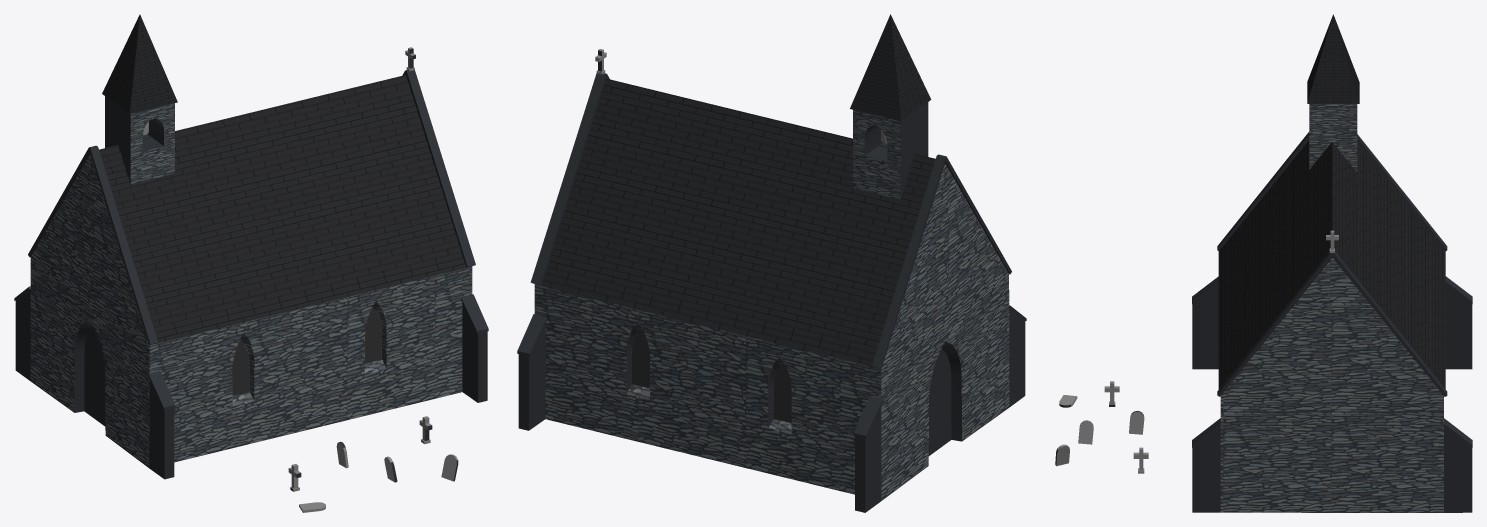
File: chape.fbx
3 views of the same model, side by side, from view 1: azimuth 30°, elevation 25°; view 2: azimuth 150°, elevation 25°; view 3: azimuth 270°, elevation 25° (orthographic). The views are drawn at different scales.
Visible parts, largest first — view 1: Chapel; view 2: Chapel; view 3: Chapel.
Part boxes in pixels (<box>): Chapel: <box>14,14,488,512</box>; Chapel: <box>517,14,1026,512</box>; Chapel: <box>1055,14,1472,512</box>.
Bounding box in the file's own units: 1447 × 1696 × 1709.
1 material, 1 textured.
